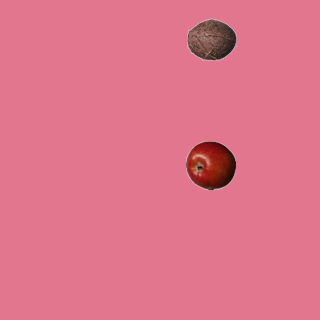Apple Braeburn: (185, 140, 235, 190)
Cocos: (186, 14, 236, 64)
